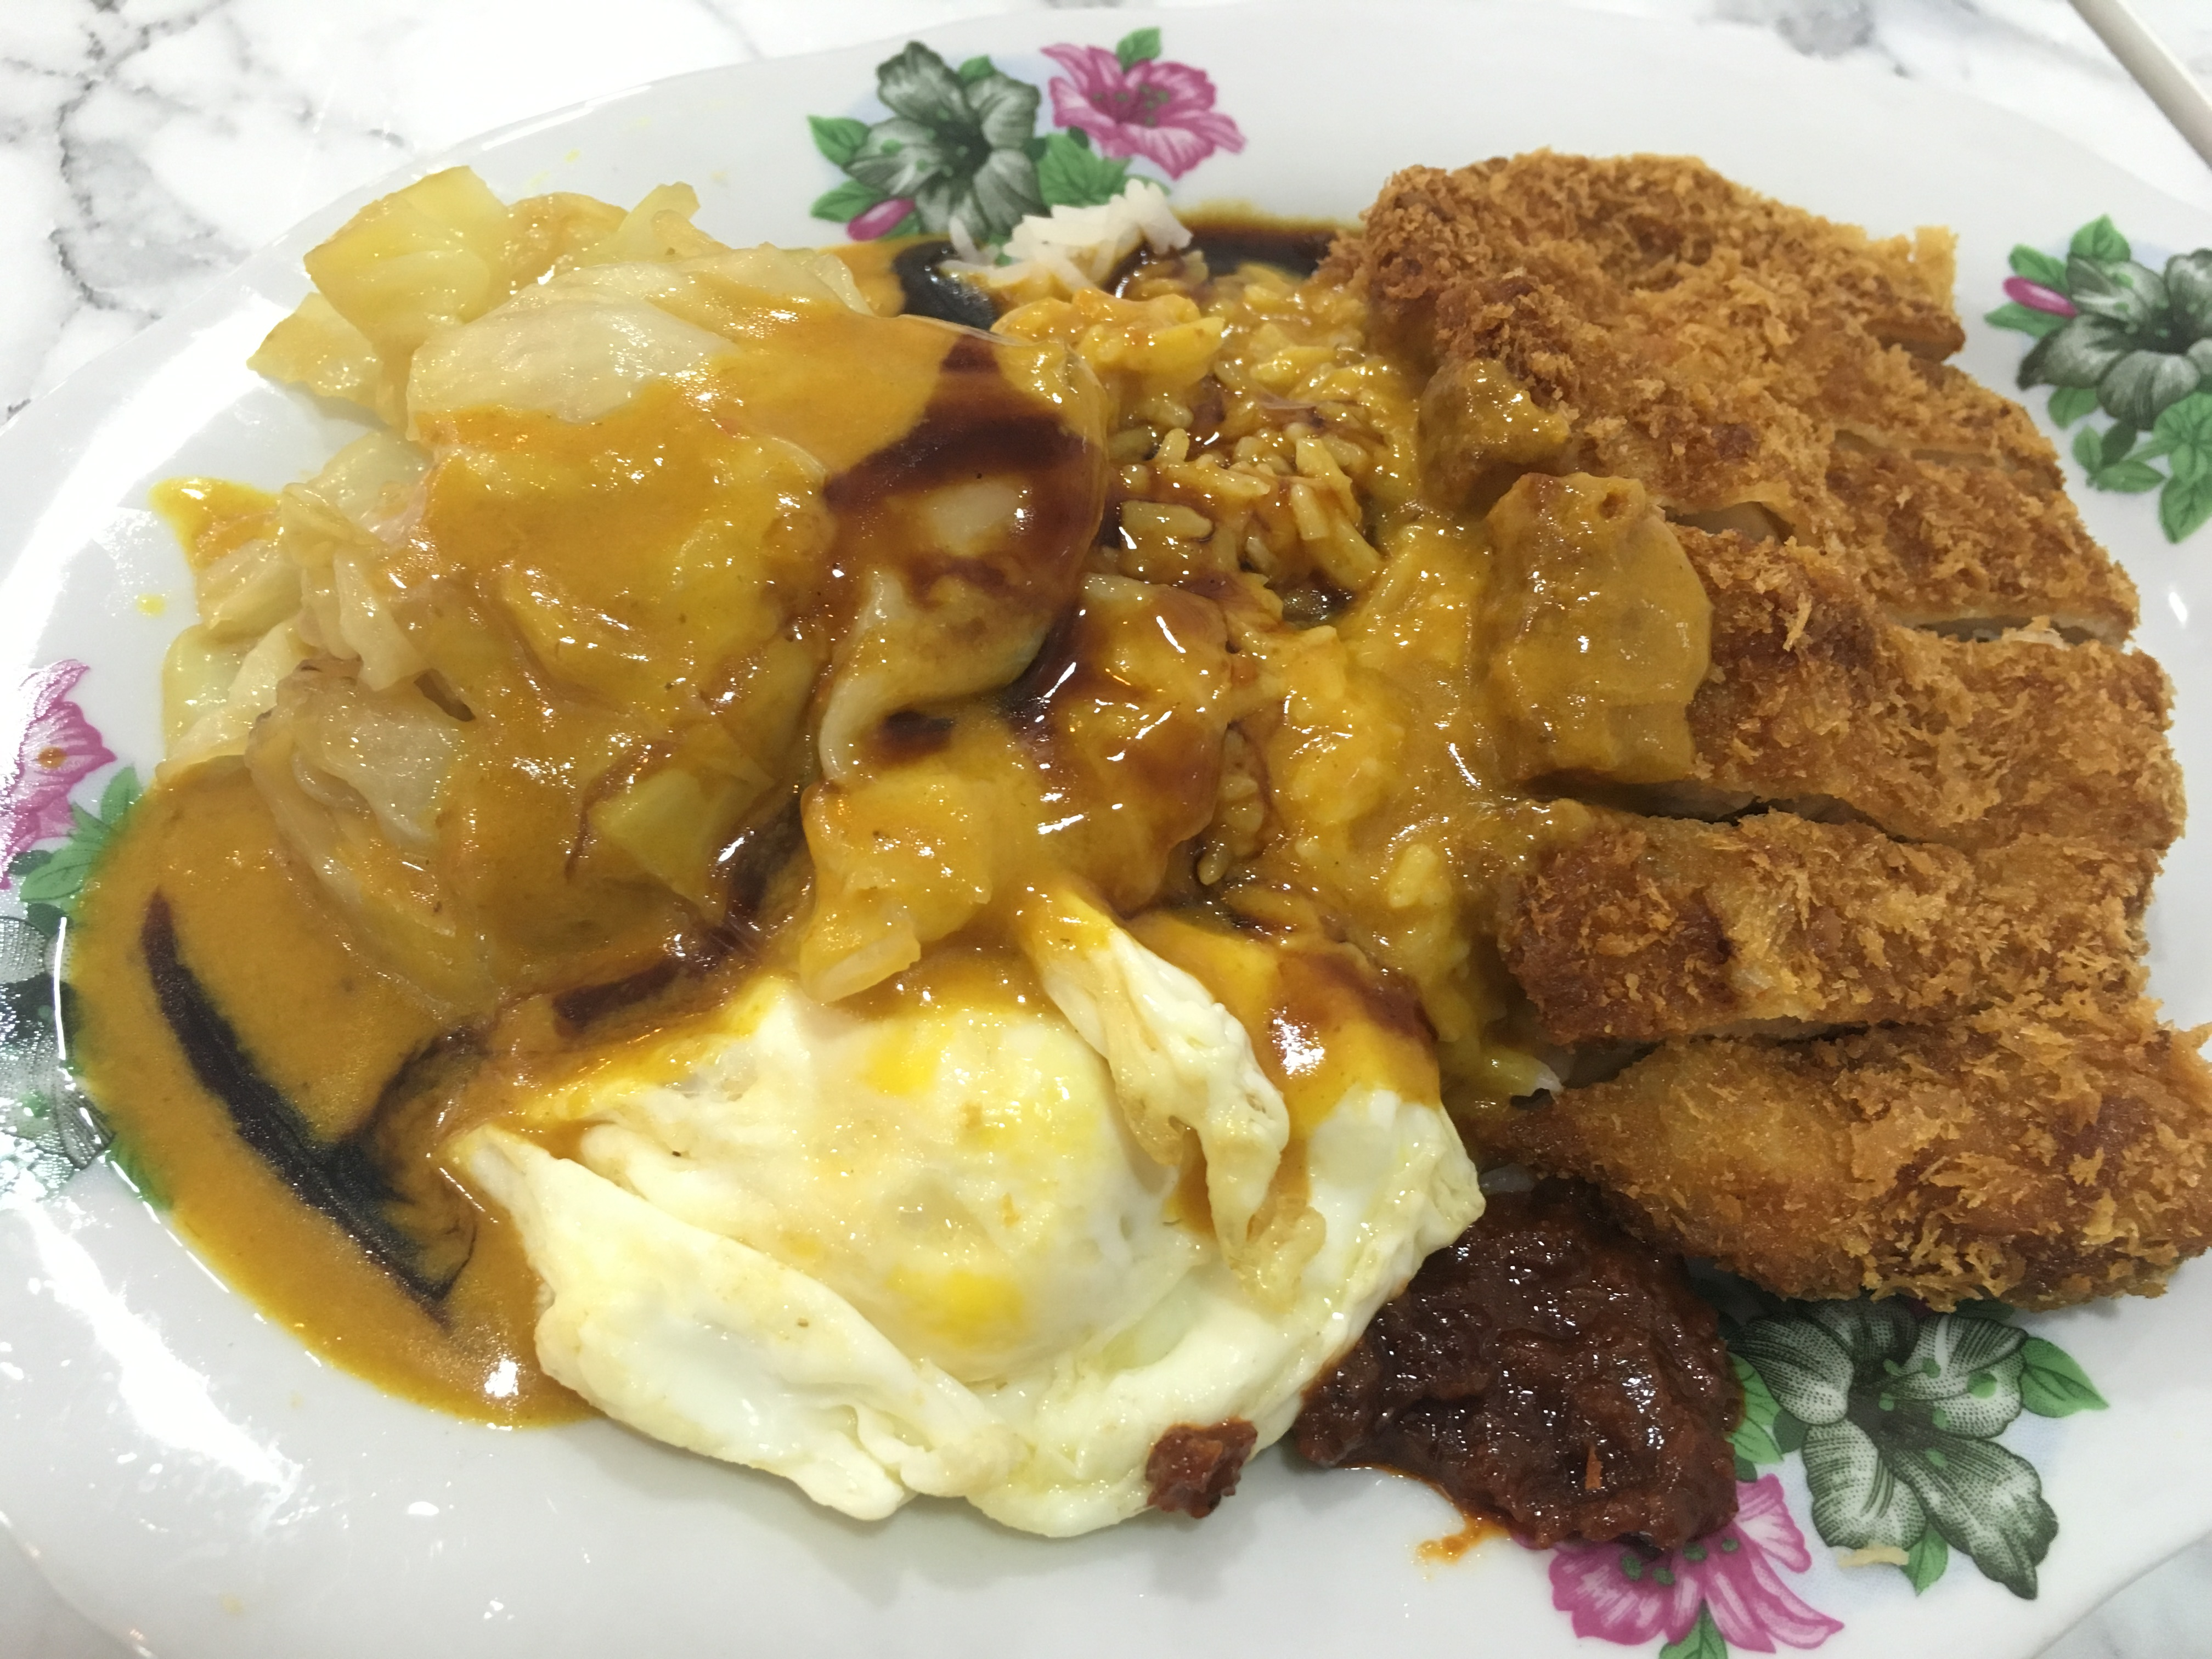curry: (164, 122, 1026, 1060)
rice: (974, 186, 1529, 812)
